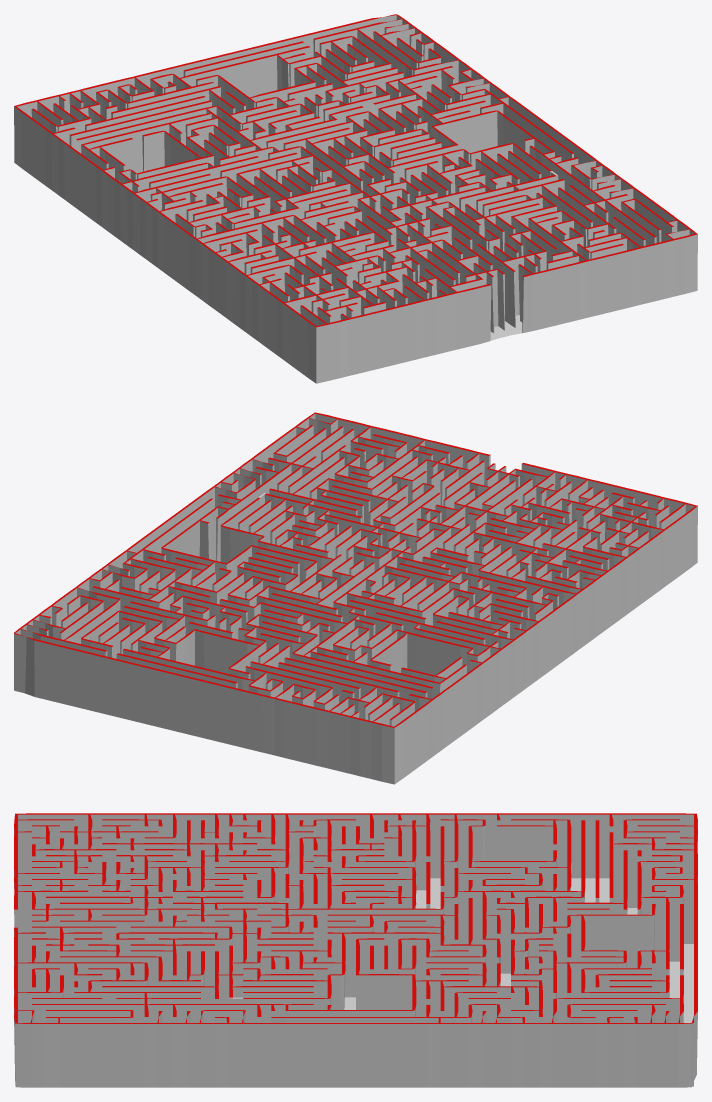
Rendered from Lbirinto final.fbx.
The picture shows the model from 3 angles, top to bottom: view 1: azimuth 30°, elevation 25°; view 2: azimuth 150°, elevation 25°; view 3: azimuth 270°, elevation 25°; orthographic projection. The views are drawn at different scales.
Parts seen in each view (by area): view 1: Plane, Plane.001; view 2: Plane, Plane.001; view 3: Plane, Plane.001.
Boxes of the visible parts, x1,y1,x2,y2 form: Plane: (14,15,697,383); Plane.001: (14,14,697,327); Plane: (14,413,697,784); Plane.001: (14,412,697,727); Plane: (14,814,697,1087); Plane.001: (14,813,697,1023).
Size of the model in its own units: 7077 by 1006 by 9710.
